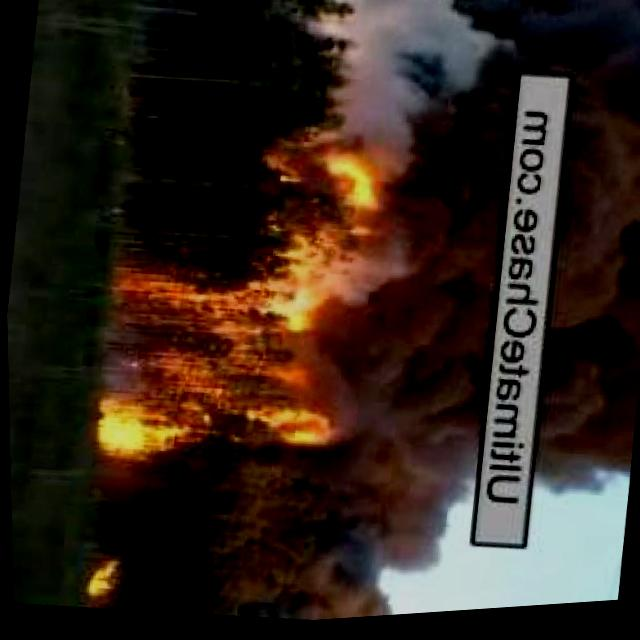Fire: (78, 244, 359, 491), (269, 131, 397, 229), (71, 554, 120, 609)
Smoke: (291, 0, 544, 625), (515, 0, 640, 504)
